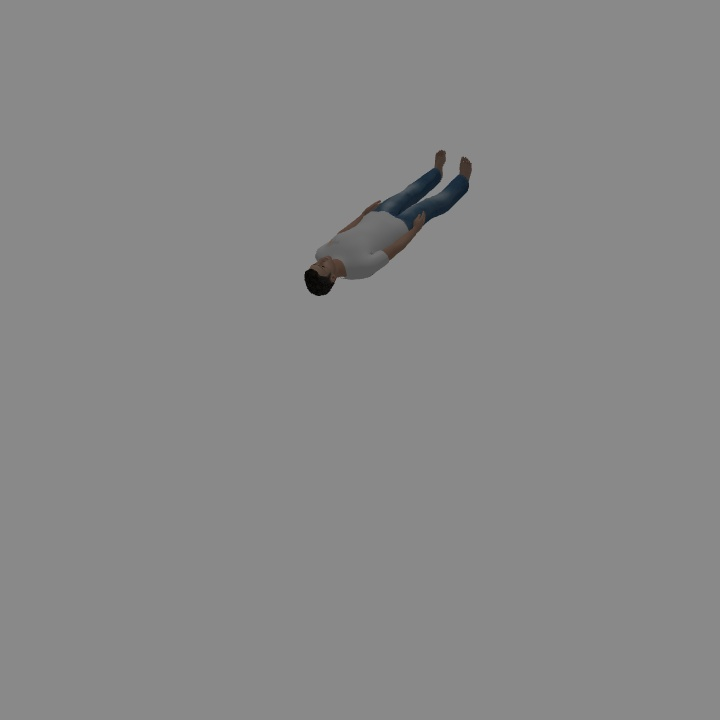victim: (306, 151, 471, 296)
